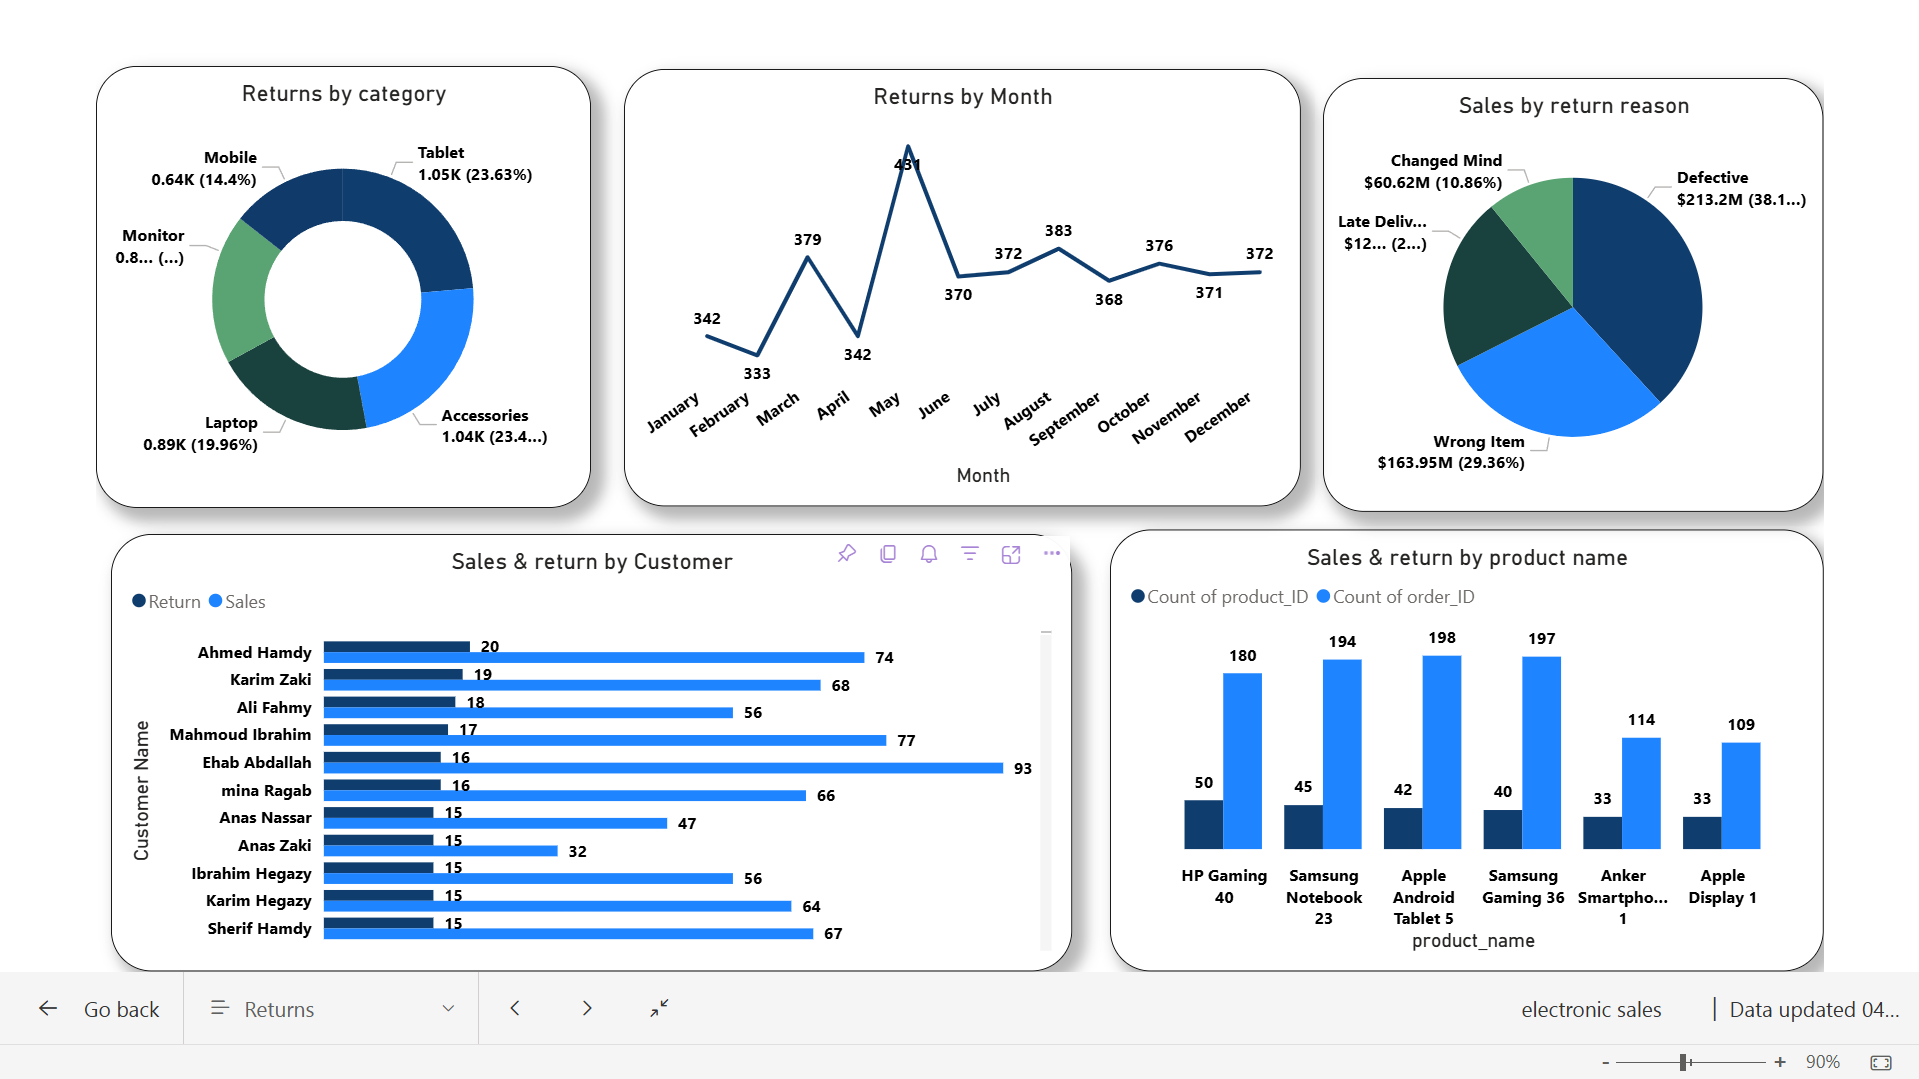

The page's visual inventory and layout, read from the dashboard file:
{"tool":"powerbi","page":{"name":"Returns","canvas":[1280,720],"ordinal":3},"visuals":[{"type":"clusteredColumnChart","title":"Sales & return by product name","fields":{"Category":["Products.product_name"],"Y":["CountNonNull(Returns.product_ID)","CountNonNull(Orders.order_ID)"]},"box":[751,392.2,528.5,327.1],"z":0},{"type":"clusteredBarChart","title":"Sales & return by Customer","fields":{"Category":["Customers.Customer Name"],"Y":["CountNonNull(Returns.customer_ID)","CountNonNull(Orders.customer_ID)"]},"box":[10.6,395.2,711.7,324],"z":1000},{"type":"pieChart","title":"Sales by return reason","fields":{"Category":["Returns.reason"],"Y":["Sum(Orders.Sales)"]},"box":[908.5,57.5,371,321],"z":2000},{"type":"lineChart","title":"Returns by Month","fields":{"Category":["Returns.return_date.Variation.Date Hierarchy.Month","Returns.return_date.Variation.Date Hierarchy.Day"],"Y":["CountNonNull(Returns.order_ID)"]},"box":[390.7,51.5,501.2,324],"z":3000},{"type":"donutChart","title":"Returns by category","fields":{"Category":["Products.category"],"Y":["CountNonNull(Returns.product_ID)"]},"box":[0,48.5,366.4,327.1],"z":4000}]}

Visuals, with their boxes on the page's 1280x720 design canvas (x1, y1, x2, y2). These are canvas units, not pixel positions in the 1919x1079 screenshot, which may show the page scaled, cropped or inside an application window:
"Sales & return by product name" clusteredColumnChart: <bbox>751, 392, 1280, 719</bbox>
"Sales & return by Customer" clusteredBarChart: <bbox>11, 395, 722, 719</bbox>
"Sales by return reason" pieChart: <bbox>908, 58, 1280, 378</bbox>
"Returns by Month" lineChart: <bbox>391, 52, 892, 376</bbox>
"Returns by category" donutChart: <bbox>0, 48, 366, 376</bbox>
